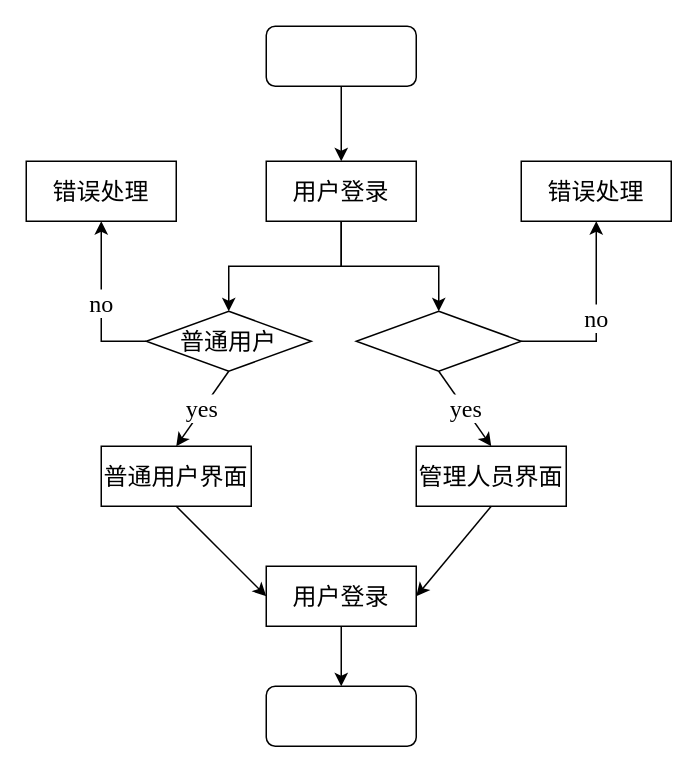
This 698x773 diagram has some shape labels left out. Each missing label, with the box of its shape:
开始: (265, 25, 416, 86)
管理人员: (355, 310, 521, 371)
结束: (265, 685, 416, 746)
